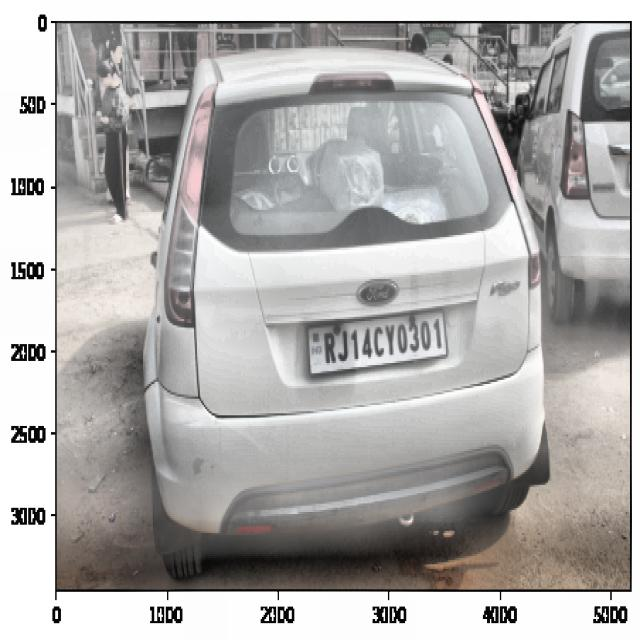license_plate: (318, 312, 447, 367)
